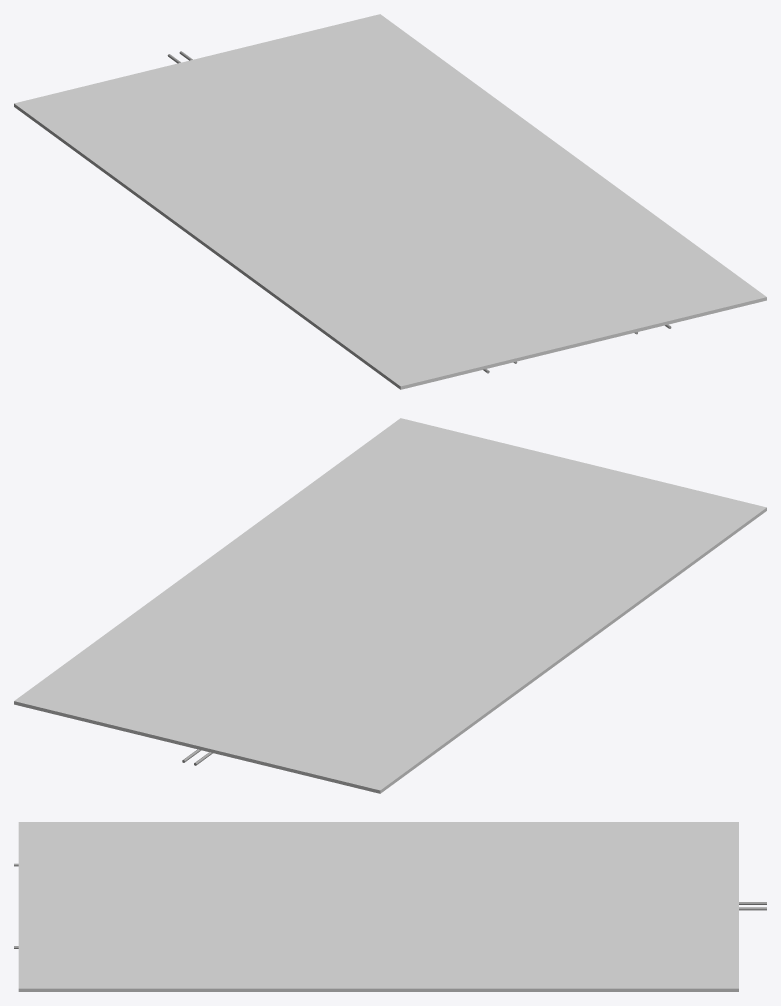
File: roof.fbx
3 renders of one model, top to bottom at view 1: azimuth 30°, elevation 25°; view 2: azimuth 150°, elevation 25°; view 3: azimuth 270°, elevation 25°, orthographic. The views are drawn at different scales.
Parts seen in each view (by area): view 1: roof.007; view 2: roof.007; view 3: roof.007.
Part boxes in pixels (x1,y1,x2,y2): roof.007: [14, 14, 766, 389]; roof.007: [14, 418, 766, 793]; roof.007: [18, 822, 738, 991].
Bounding box in the file's own units: 3301 × 50.52 × 6308.
